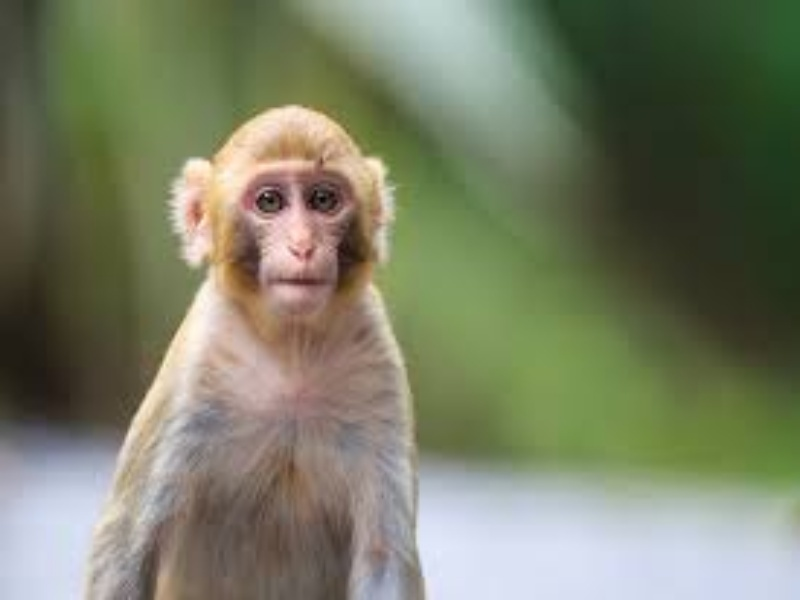monkey: (79, 99, 439, 600)
